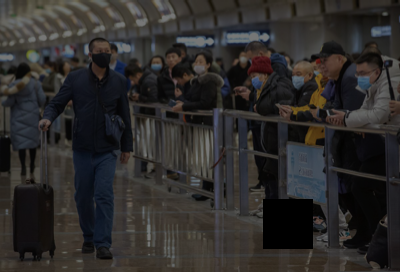mask_weared_incorrect: (194, 57, 207, 74)
with_mask: (355, 67, 375, 90), (92, 46, 112, 67), (292, 69, 306, 89), (251, 72, 264, 89), (151, 59, 163, 72), (239, 53, 248, 64)
without_mask: (321, 56, 340, 77), (166, 53, 179, 67), (175, 76, 188, 86), (130, 76, 141, 85)
